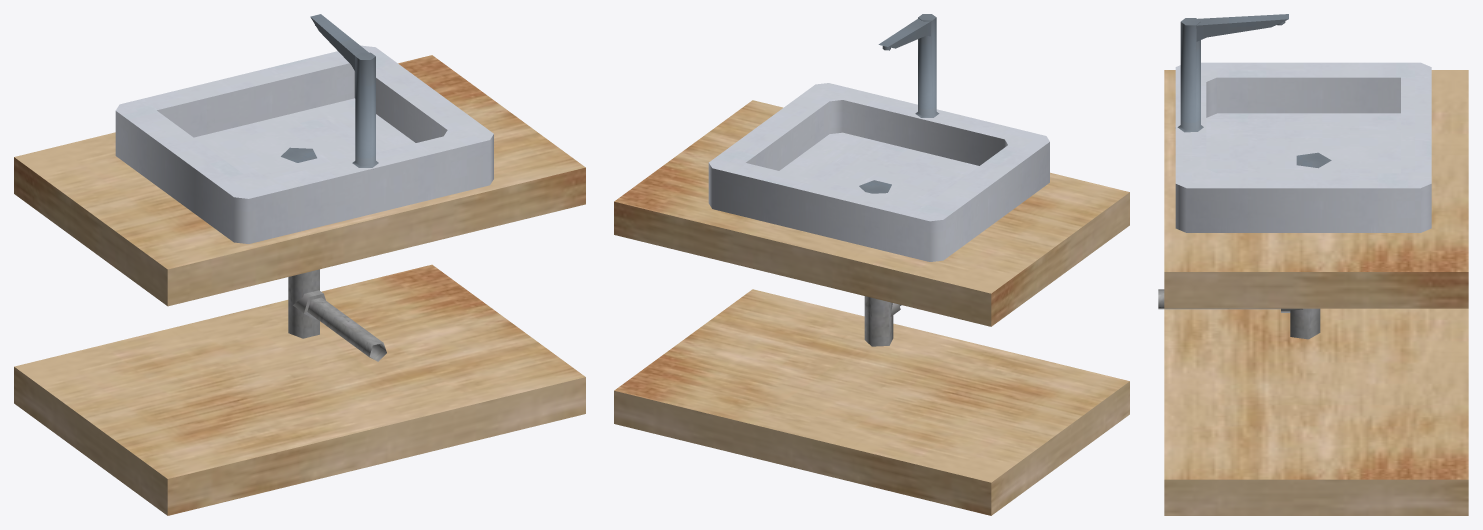
The model's file is Washbasin_04.glb.
3 renders of one model, left to right at view 1: azimuth 30°, elevation 25°; view 2: azimuth 150°, elevation 25°; view 3: azimuth 270°, elevation 25°, orthographic. The views are drawn at different scales.
Visible parts, largest first — view 1: Washbasin_04; view 2: Washbasin_04; view 3: Washbasin_04.
Boxes of the visible parts, left/top/right/bottom form: Washbasin_04: left=14, top=14, right=585, bottom=515; Washbasin_04: left=614, top=14, right=1129, bottom=515; Washbasin_04: left=1158, top=14, right=1468, bottom=515.
Bounding box in the file's own units: 0.7525 × 0.6933 × 0.4887.
4 materials, 4 textured.
